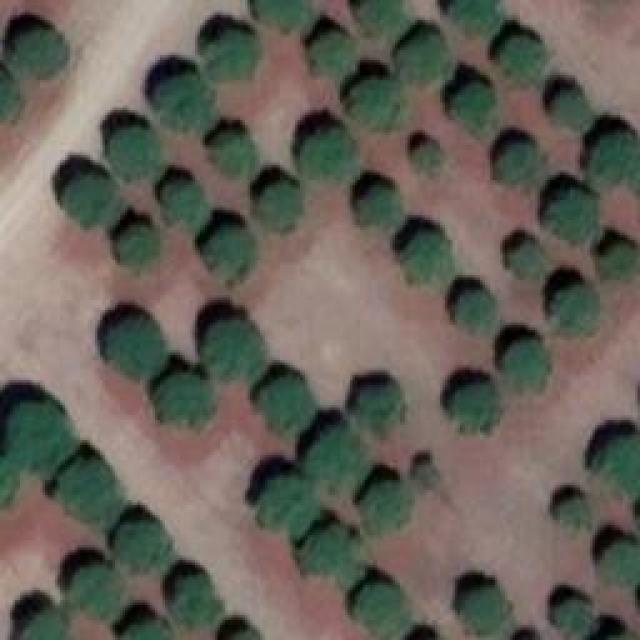Tree: (7, 403, 75, 478), (58, 463, 123, 533), (300, 528, 363, 588), (308, 428, 371, 488), (108, 318, 168, 381), (158, 73, 218, 133), (205, 320, 265, 380), (257, 475, 315, 535), (587, 132, 640, 195), (60, 175, 125, 225), (155, 373, 213, 428), (355, 585, 408, 640), (68, 565, 121, 620), (358, 480, 413, 533), (258, 378, 311, 433), (110, 125, 163, 178), (459, 587, 512, 640), (205, 228, 255, 281), (173, 575, 223, 628), (548, 190, 598, 243), (303, 130, 358, 178), (595, 437, 640, 495), (355, 383, 405, 433), (400, 233, 450, 283), (203, 33, 258, 78), (350, 80, 400, 128), (210, 135, 260, 183), (13, 30, 66, 75), (118, 523, 171, 568), (162, 182, 210, 230), (453, 85, 496, 138), (398, 38, 448, 83), (453, 383, 498, 433), (313, 32, 358, 80), (255, 182, 300, 230), (500, 340, 545, 388), (553, 283, 596, 333), (498, 143, 543, 186), (597, 542, 640, 587), (15, 607, 72, 640), (455, 290, 493, 333), (450, 0, 500, 32), (118, 225, 158, 265), (352, 190, 400, 223), (503, 38, 538, 83), (598, 242, 638, 280), (553, 93, 593, 128), (258, 0, 313, 25), (555, 600, 593, 635), (508, 242, 543, 280), (360, 0, 400, 32), (119, 617, 172, 640), (0, 70, 20, 120), (558, 498, 591, 528), (418, 143, 438, 173), (415, 463, 433, 486)
